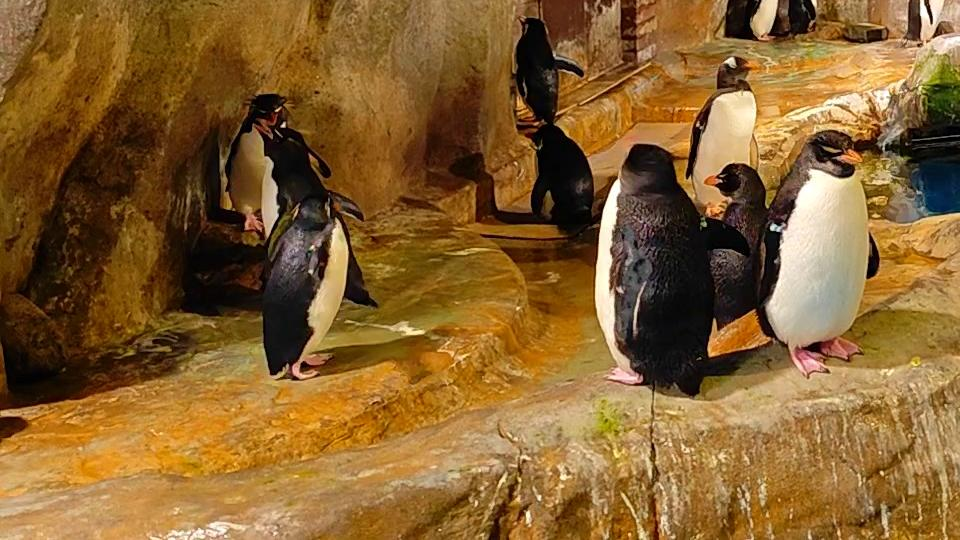Southern Rockhopper Penguin: (747, 126, 887, 378), (589, 134, 716, 399), (251, 119, 376, 302), (255, 191, 352, 386), (221, 90, 332, 231), (510, 116, 596, 233), (502, 9, 585, 129), (698, 158, 775, 249), (740, 0, 788, 45), (783, 0, 824, 40)
